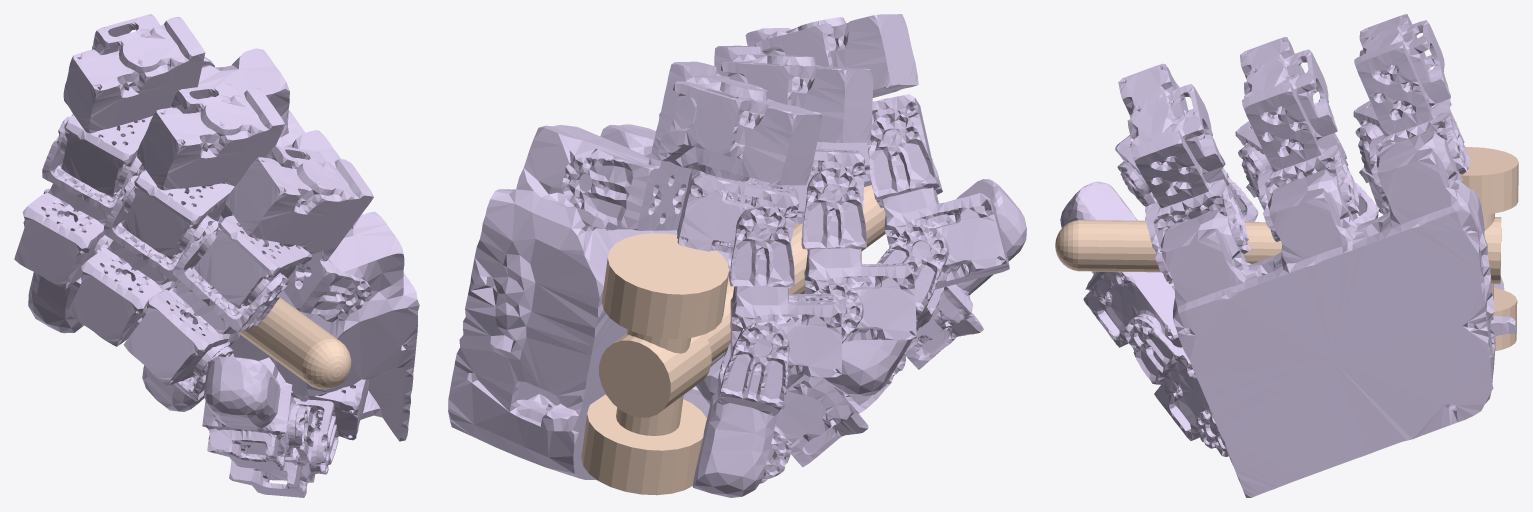
3 renders of one model, left to right at view 1: azimuth 30°, elevation 25°; view 2: azimuth 150°, elevation 25°; view 3: azimuth 270°, elevation 25°, orthographic. The views are drawn at different scales.
Parts seen in each view (by area): view 1: LEAP_hand, world; view 2: LEAP_hand, world; view 3: LEAP_hand, world.
Boxes of the visible parts, x1,y1,x2,y2 form: LEAP_hand: [14, 14, 419, 497]; world: [240, 297, 351, 389]; LEAP_hand: [448, 14, 1026, 497]; world: [581, 185, 885, 495]; LEAP_hand: [1060, 14, 1516, 497]; world: [1055, 147, 1518, 351].
Bounding box in the file's own units: 0.1345 × 0.1678 × 0.1794.
